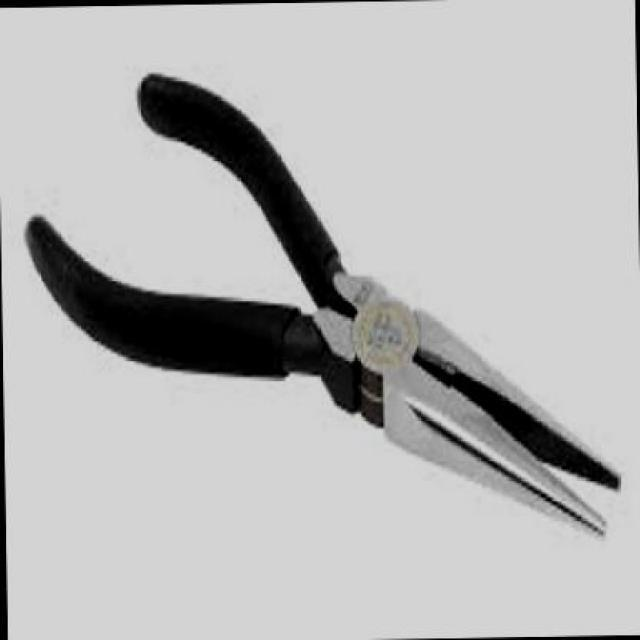pliers: (3, 60, 639, 588)
